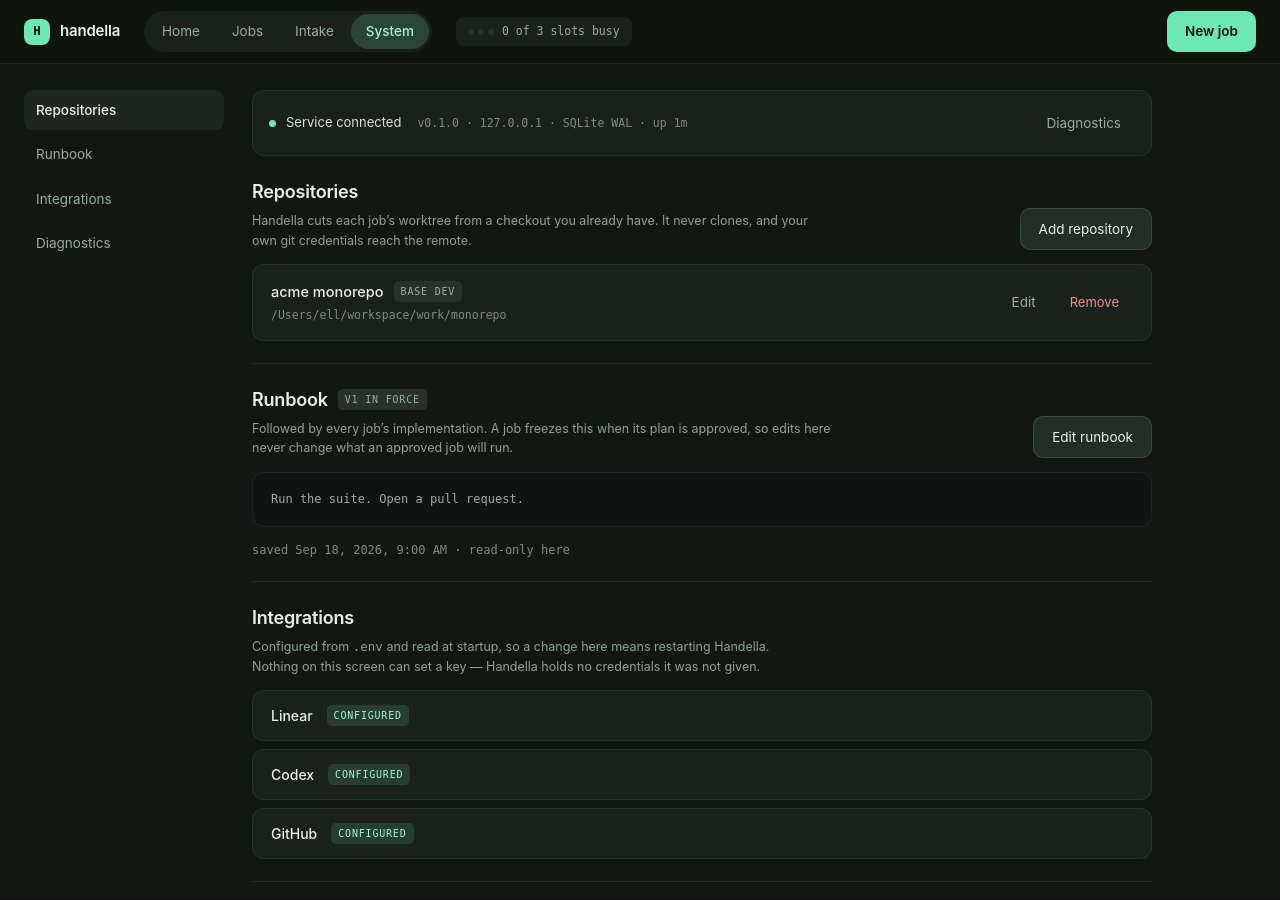
Test case: the runbook in settings › will not save until something actually changed
Expected: the text "v1 in force" is shown, [338, 389, 427, 410]
Click the button "Edit runbook" at (1093, 437), box [1033, 416, 1152, 458]
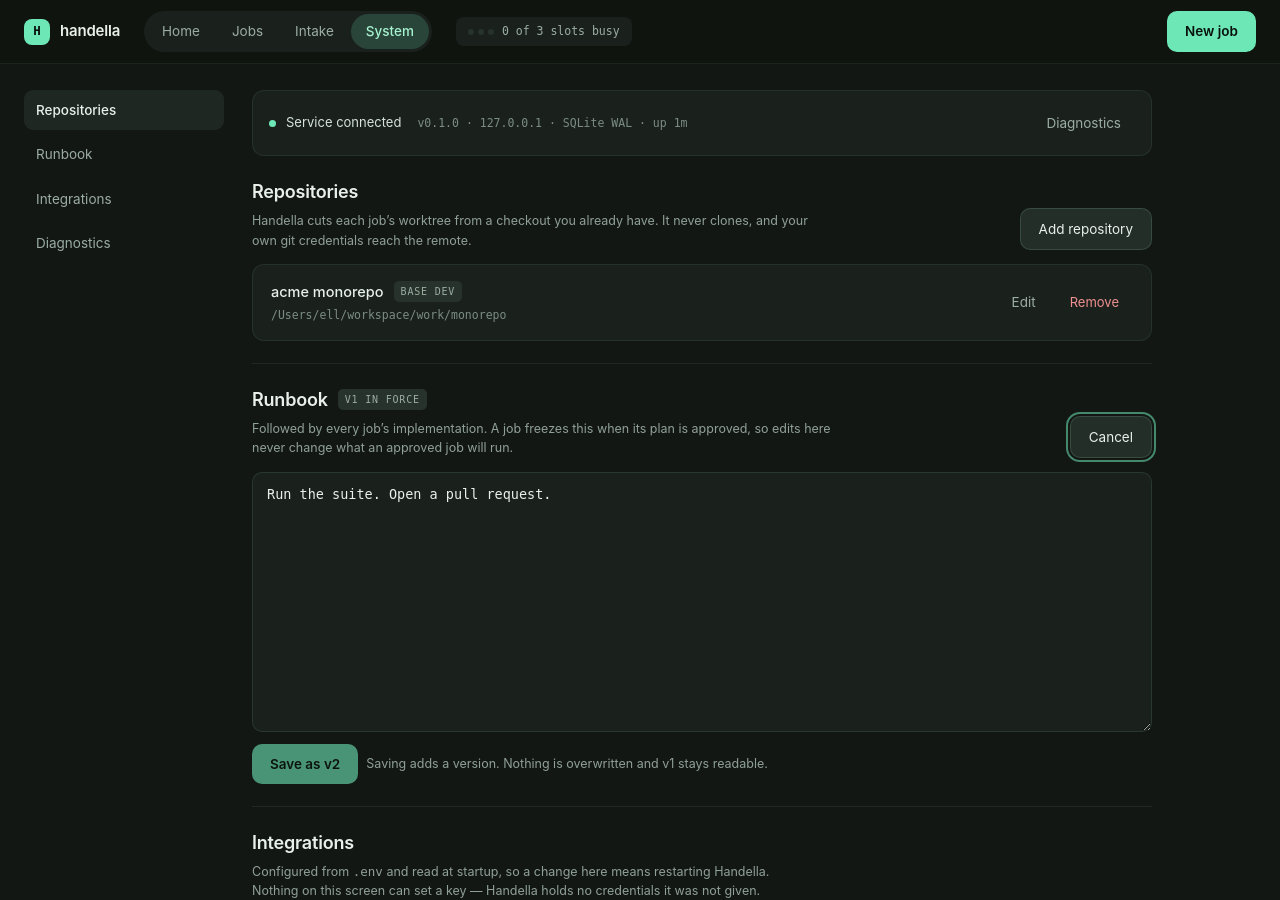
Now the button "Save as v2" is disabled, box [252, 744, 358, 784]
